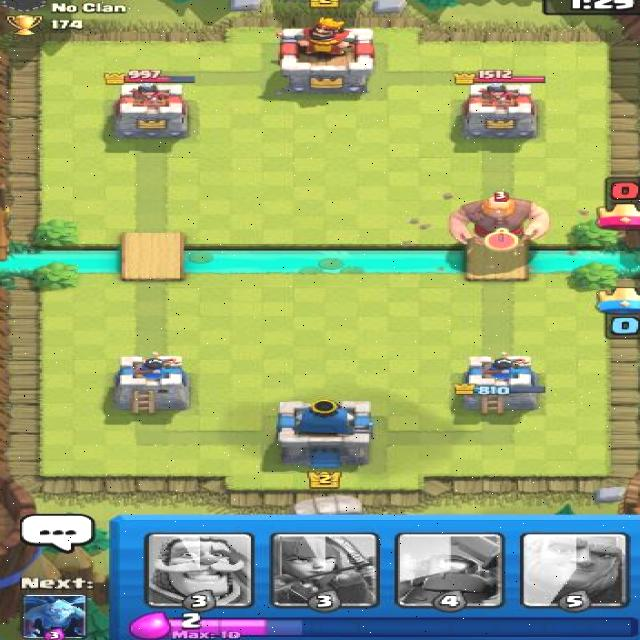Enemy-Giant: (445, 189, 553, 253)
